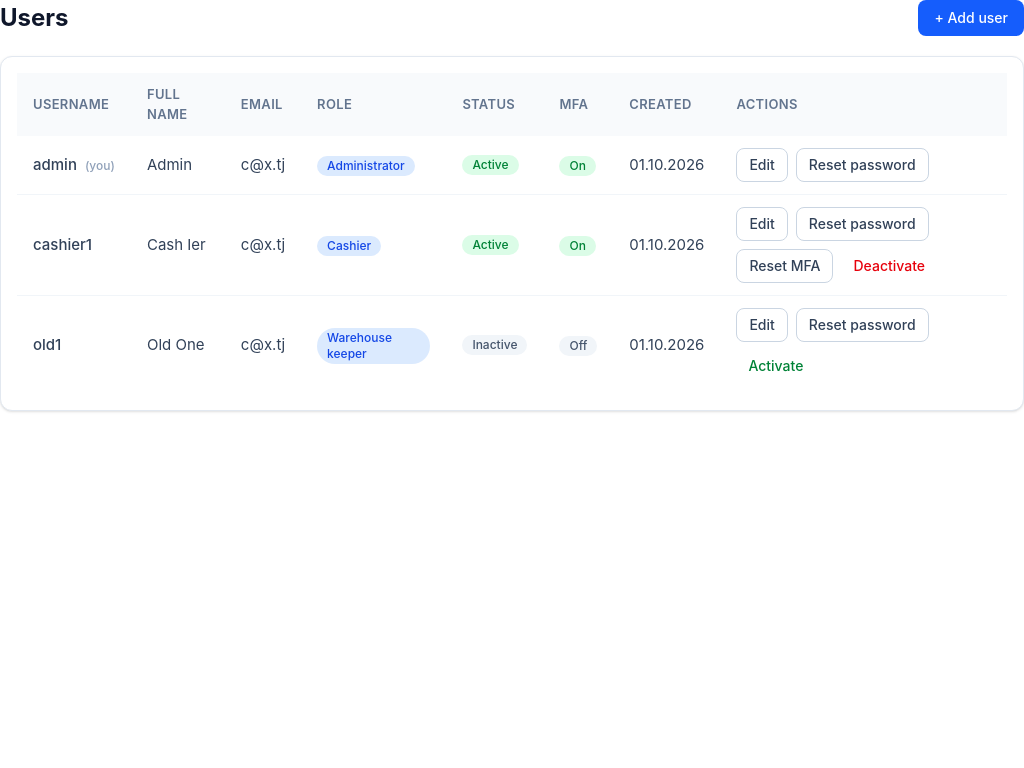
it: UsersPage › deactivate failure for the last admin shows the translated reason
The width and height of the screenshot is (1024, 768).
Check: the text "cashier1" is shown, box [17,194,131,296]
Click the button "Deactivate" at [889, 266], box [842,249,937,283]
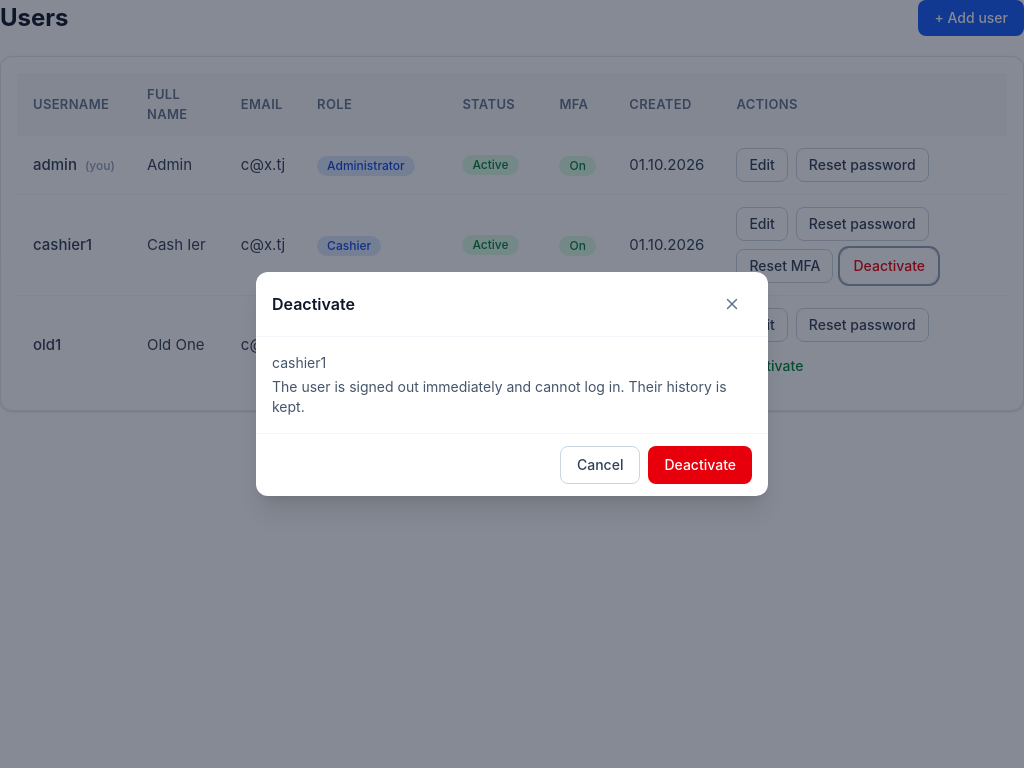
Click the button "Deactivate" at [700, 465], box [648,446,752,484]
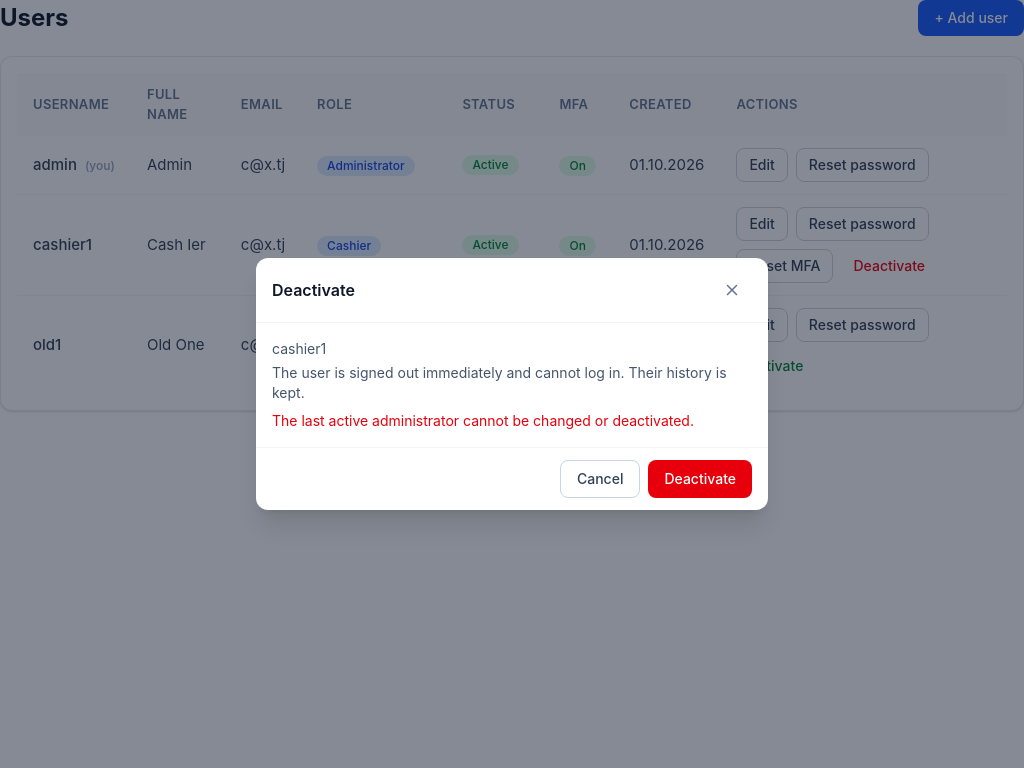
Check: the text "The last active administrator cannot be changed or deactivated." is shown, box [272,411,752,431]
